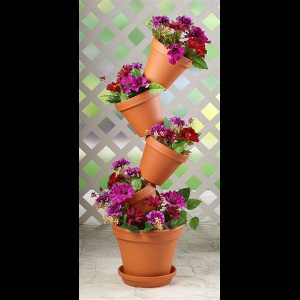flowerpot: (111, 216, 188, 287), (136, 131, 190, 186), (115, 85, 166, 140), (144, 35, 194, 91)
